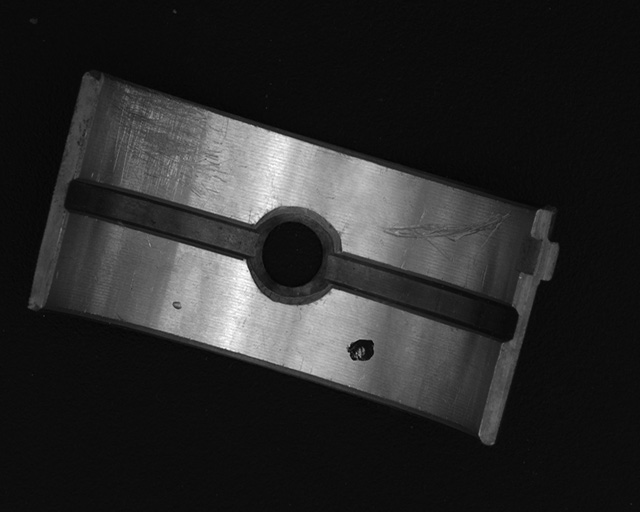blot: (346, 338, 376, 363)
bruise: (171, 301, 184, 310)
gap: (326, 252, 519, 345), (63, 179, 257, 258)
hole: (248, 208, 339, 299)
nick: (377, 213, 511, 264)
scratch: (107, 85, 230, 201)
